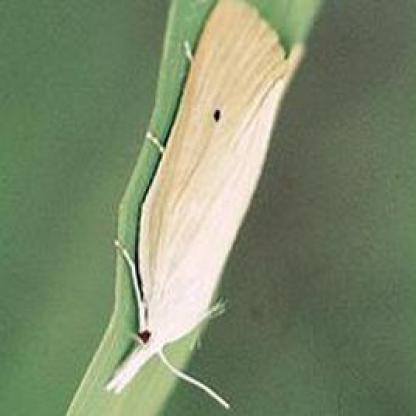stem-borer: (104, 0, 305, 408)
